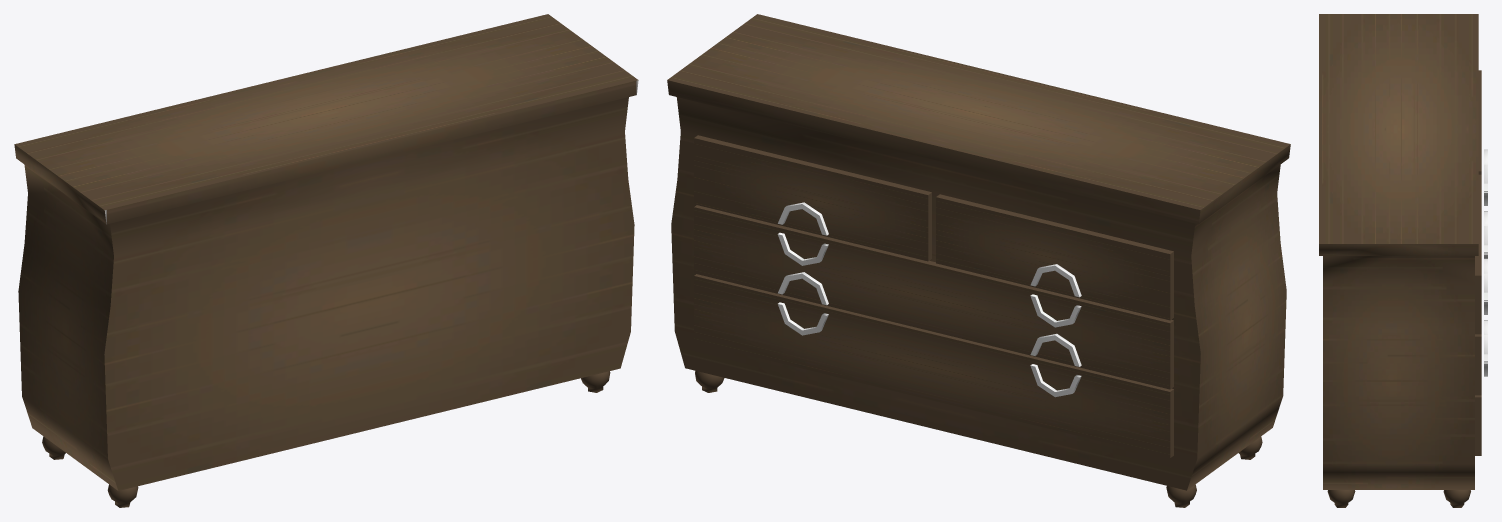
File: Anim.fbx
3 renders of one model, left to right at view 1: azimuth 30°, elevation 25°; view 2: azimuth 150°, elevation 25°; view 3: azimuth 270°, elevation 25°, orthographic. The views are drawn at different scales.
Parts seen in each view (by area): view 1: Drawers; view 2: Drawers, Draw; view 3: Drawers, Draw.
Boxes of the visible parts, bbox=[...] form: Drawers: bbox=[14, 14, 638, 507]; Drawers: bbox=[667, 14, 1290, 507]; Draw: bbox=[694, 205, 1173, 389]; Drawers: bbox=[1319, 14, 1487, 507]; Draw: bbox=[1475, 183, 1487, 395].
Bounding box in the file's own units: 3.27 × 1.82 × 1.01.
Materials: 1 (1 with a texture image).
